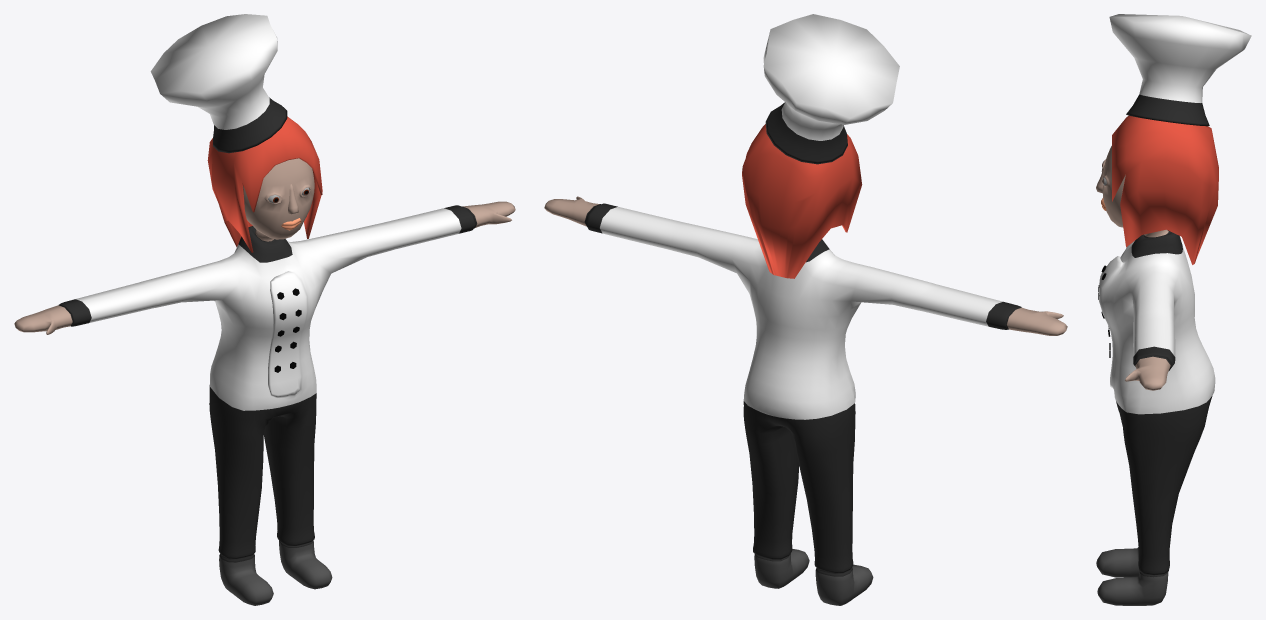
File: Cooker.fbx
3 views of the same model, side by side, from view 1: azimuth 30°, elevation 25°; view 2: azimuth 150°, elevation 25°; view 3: azimuth 270°, elevation 25° (orthographic). The views are drawn at different scales.
Visible parts, largest first — view 1: Cooker_Body, Cooker_Hat, Cooker_Hair; view 2: Cooker_Body, Cooker_Hat, Cooker_Hair; view 3: Cooker_Body, Cooker_Hair, Cooker_Hat.
Part boxes in pixels (x1,y1,x2,y2): Cooker_Body: (14,158,515,605); Cooker_Hat: (150,14,287,153); Cooker_Hair: (207,116,322,252); Cooker_Body: (544,196,1067,605); Cooker_Hat: (763,14,899,164); Cooker_Hair: (742,124,862,278); Cooker_Body: (1096,146,1215,605); Cooker_Hair: (1112,115,1218,264); Cooker_Hat: (1109,14,1251,126).
Size of the model in its own units: 189 by 200 by 49.55.
